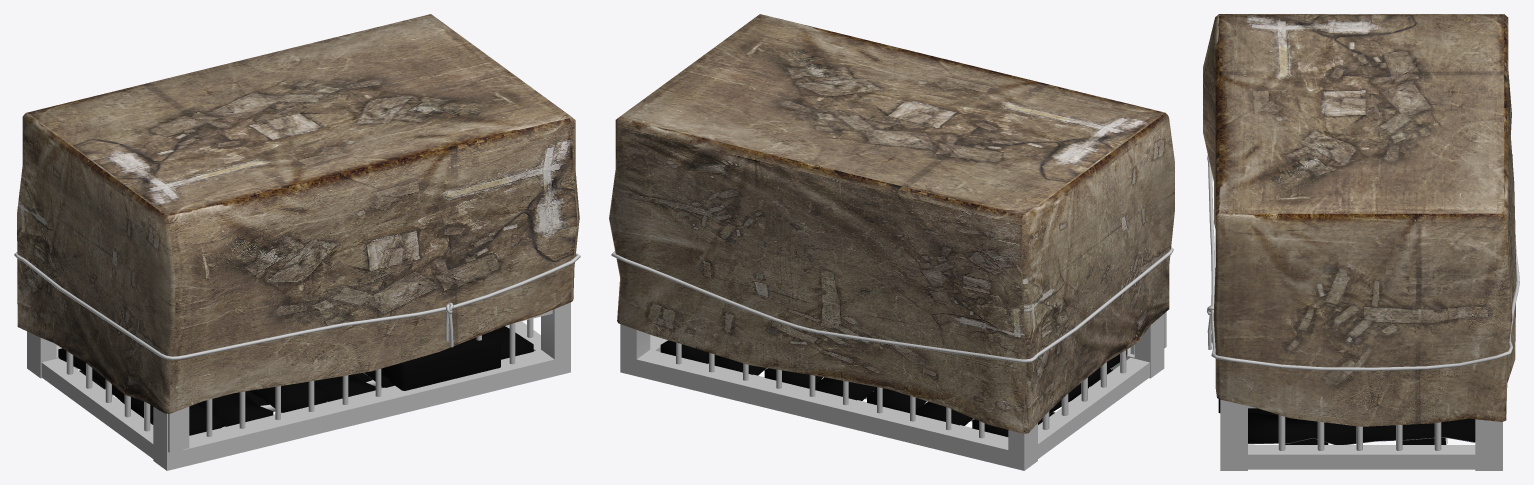
Rendered from cage_05.DAE.
3 views of the same model, side by side, from view 1: azimuth 30°, elevation 25°; view 2: azimuth 150°, elevation 25°; view 3: azimuth 270°, elevation 25° (orthographic).
Visible parts, largest first — view 1: Box012, Object052, Object049, Box013, Line002, Object050; view 2: Box012, Object052, Object049, Line002; view 3: Box012, Object052, Object049, Line002.
Boxes of the visible parts, x1,y1,x2,y2 form: Box012: (17,14,579,413); Object052: (27,302,570,470); Object049: (58,326,533,435); Box013: (375,332,500,390); Line002: (14,252,580,360); Object050: (168,381,314,452); Box012: (609,14,1174,433); Object052: (620,278,1164,470); Object049: (660,340,1127,436); Line002: (611,247,1173,362); Box012: (1203,14,1516,426); Object052: (1220,375,1502,470); Object049: (1248,412,1475,444); Line002: (1207,154,1519,370).
Bounding box in the file's own units: 2.63 × 1.51 × 1.68.
